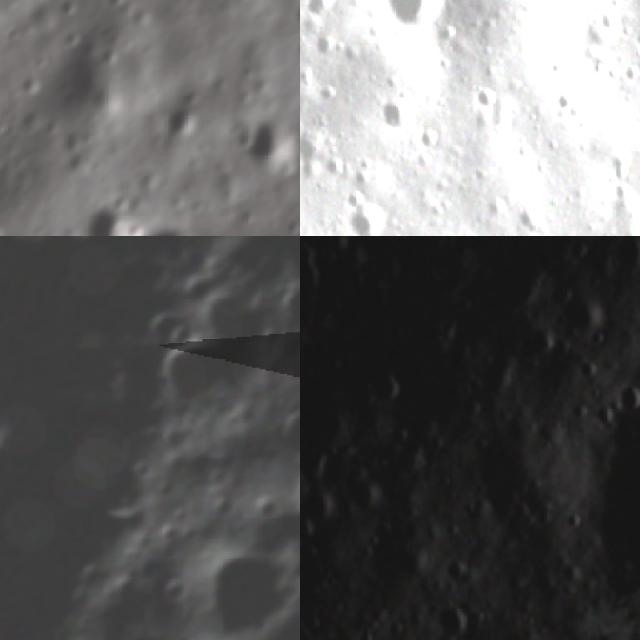crater: (170, 523, 300, 640), (150, 319, 252, 418), (327, 462, 393, 528), (300, 236, 344, 325), (496, 259, 551, 323), (261, 386, 300, 471), (242, 116, 300, 173), (470, 345, 527, 403), (374, 0, 453, 38), (359, 365, 410, 420), (300, 481, 346, 541), (426, 593, 480, 640), (262, 274, 300, 340), (161, 92, 205, 147), (384, 435, 434, 483), (449, 394, 494, 438), (604, 236, 640, 283), (609, 376, 640, 427), (374, 97, 416, 134), (570, 350, 610, 388), (512, 201, 552, 236), (80, 214, 140, 236), (405, 624, 486, 640), (345, 201, 382, 236), (556, 236, 596, 268), (546, 86, 584, 119), (596, 6, 630, 40), (413, 128, 446, 156), (469, 84, 498, 115), (542, 55, 570, 83), (582, 325, 610, 352), (310, 33, 337, 60), (305, 0, 336, 20), (617, 61, 640, 85)
